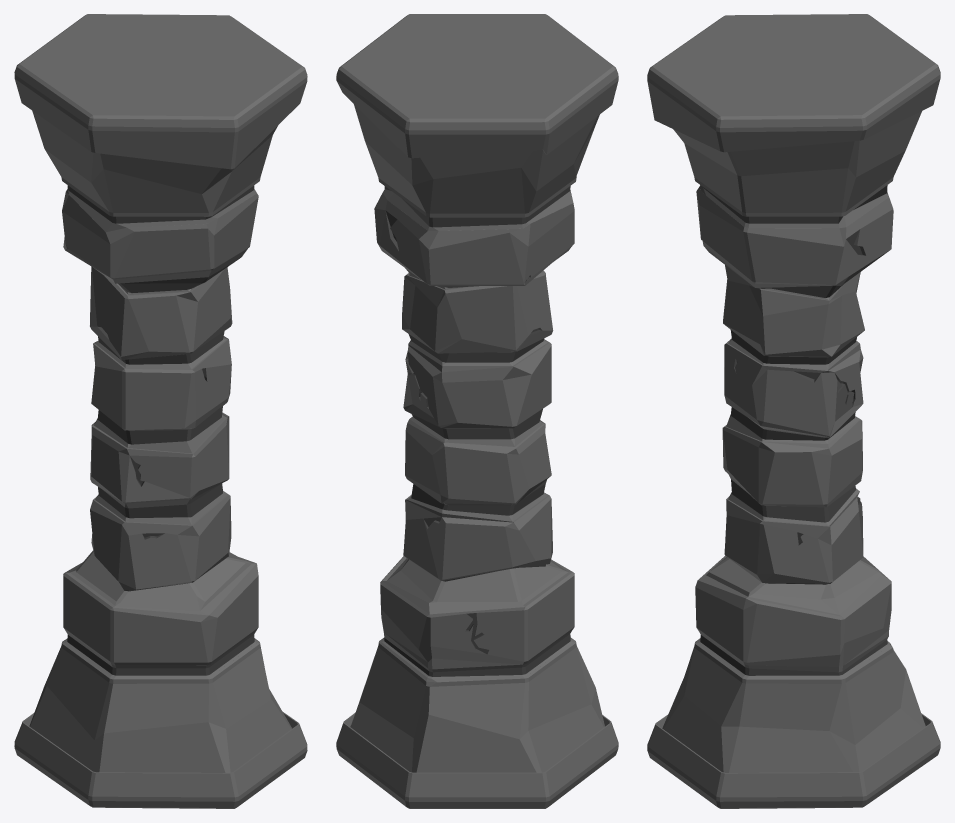
File: Säule_002.fbx
3 views of the same model, side by side, from view 1: azimuth 30°, elevation 25°; view 2: azimuth 150°, elevation 25°; view 3: azimuth 270°, elevation 25° (orthographic).
Visible parts, largest first — view 1: Säule_002; view 2: Säule_002; view 3: Säule_002.
Part boxes in pixels (left/top/right/bottom): Säule_002: left=14, top=14, right=307, bottom=808; Säule_002: left=336, top=14, right=618, bottom=808; Säule_002: left=647, top=14, right=940, bottom=808.
Bounding box in the file's own units: 256 × 773 × 297.
